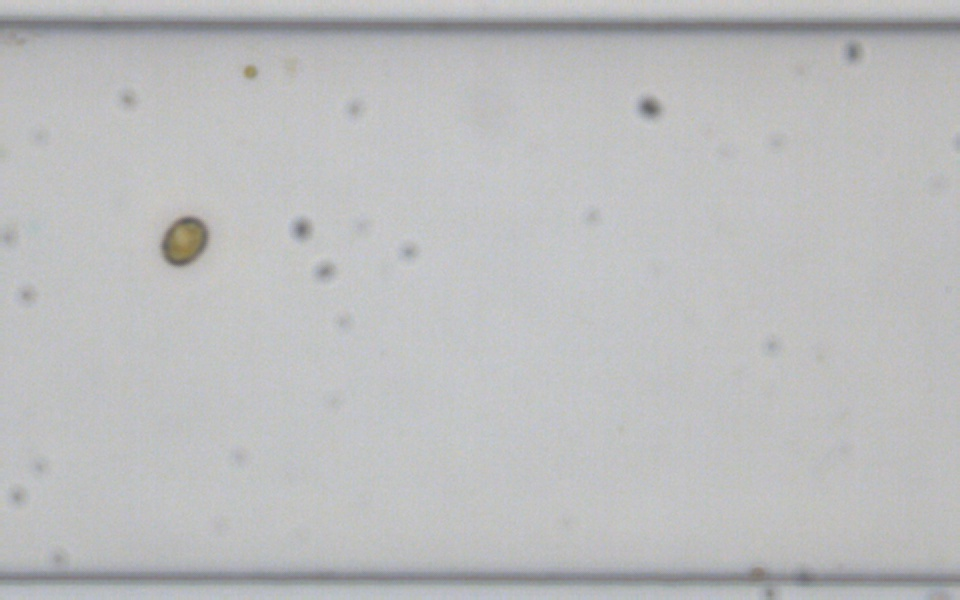Chlorella: (241, 62, 258, 79)
Effrenium: (157, 211, 212, 269)
